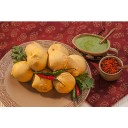bonda: (66, 54, 86, 78), (47, 50, 69, 71), (12, 60, 33, 81), (55, 72, 75, 94), (28, 49, 47, 70), (35, 73, 53, 93)
